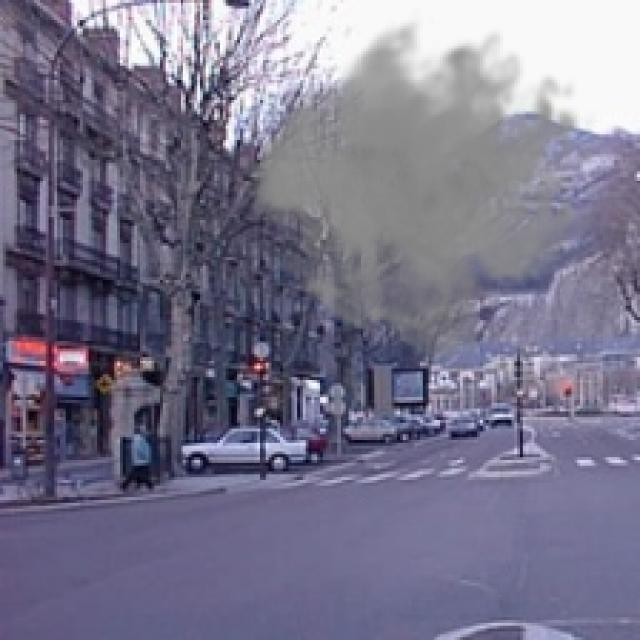Smoke: (243, 9, 600, 368)
